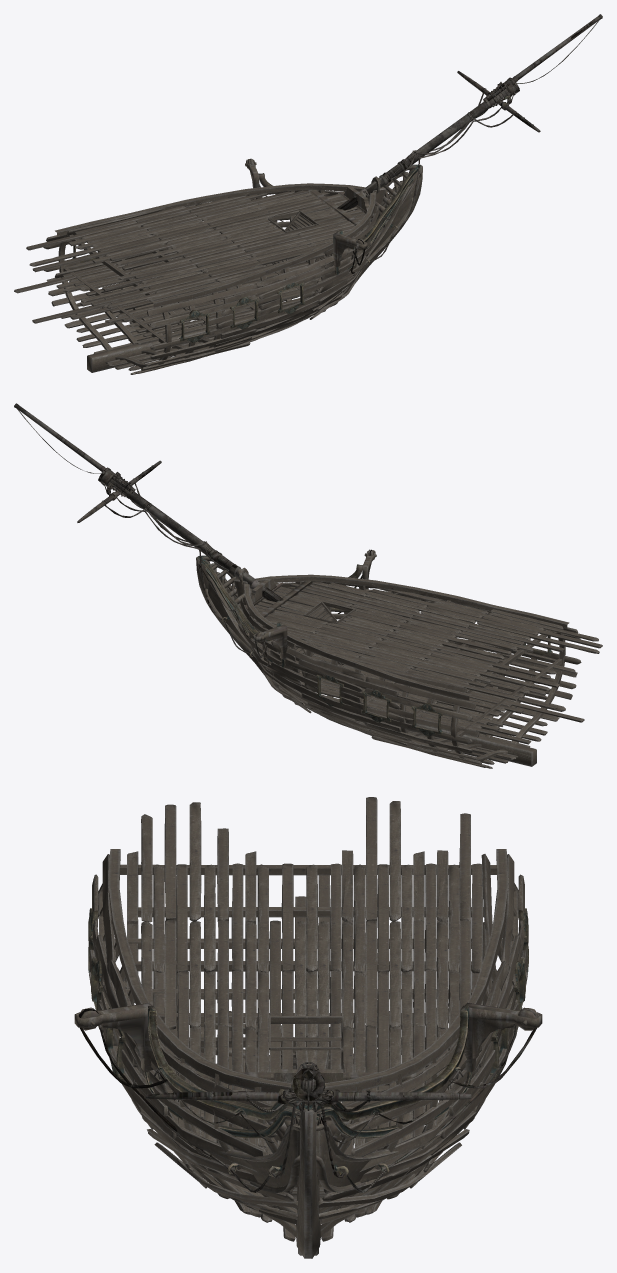
File: ship-wreck-size-4.glb
3 views of the same model, one above another, from view 1: azimuth 30°, elevation 25°; view 2: azimuth 150°, elevation 25°; view 3: azimuth 270°, elevation 25° (orthographic). The views are drawn at different scales.
Visible parts, largest first — view 1: default; view 2: default; view 3: default.
Boxes of the visible parts, x1=… form: default: x1=14, y1=14, x2=602, y2=374; default: x1=14, y1=403, x2=602, y2=768; default: x1=74, y1=797, x2=542, y2=1258.
Bounding box in the file's own units: 43.66 × 17.17 × 15.64.
Materials: 4 (4 with a texture image).
